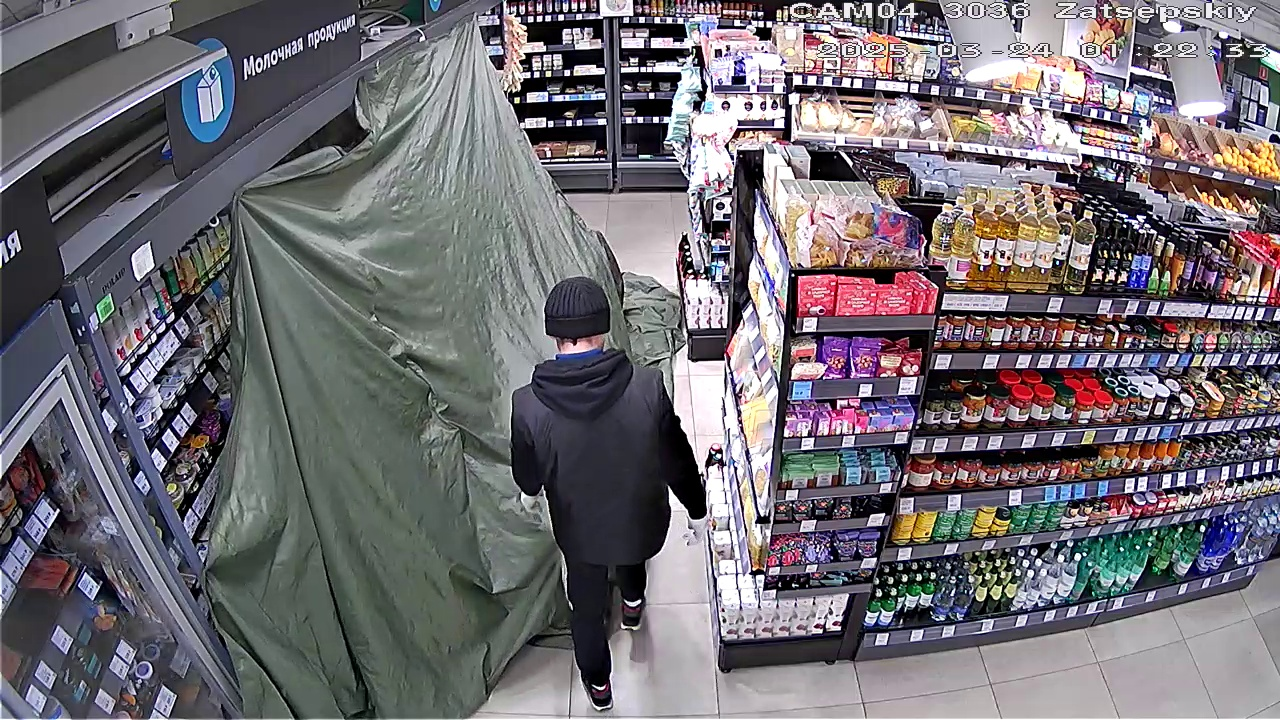Human: (499, 273, 718, 705)
dome: (170, 39, 684, 719)
